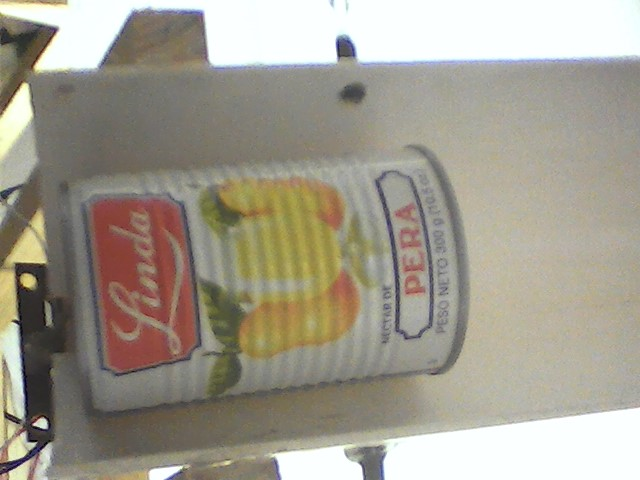lata: (51, 138, 478, 416)
